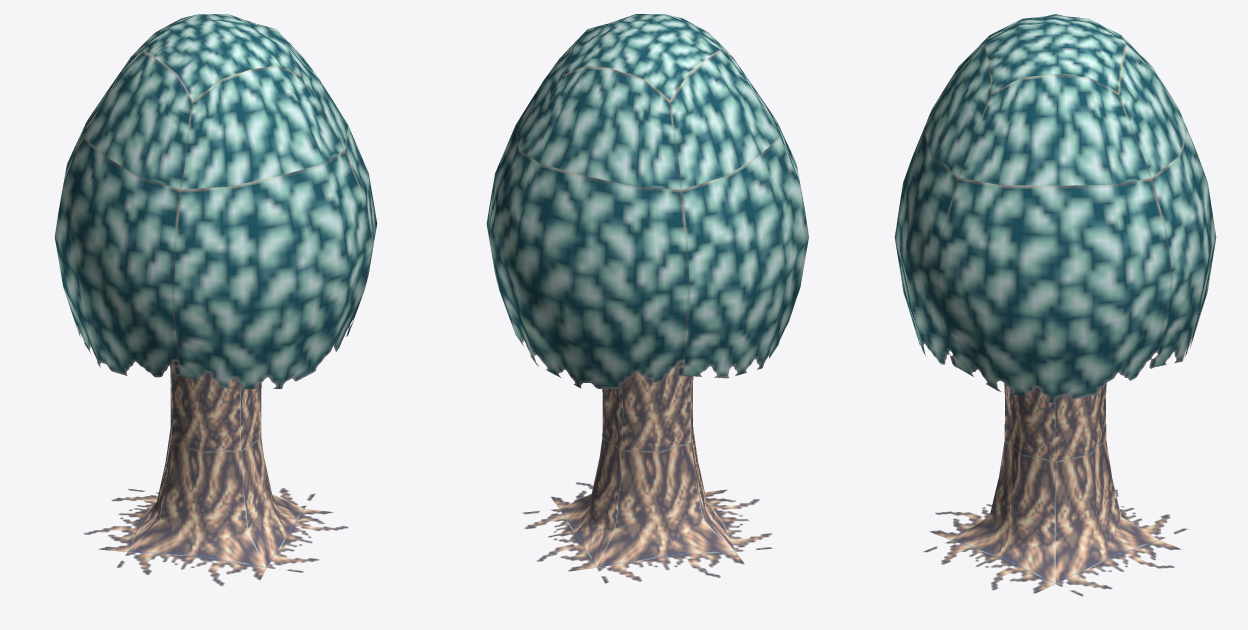
Rendered from grasslands_Tree_snowy_hiPoly.fbx.
3 views of the same model, side by side, from view 1: azimuth 30°, elevation 25°; view 2: azimuth 150°, elevation 25°; view 3: azimuth 270°, elevation 25° (orthographic).
Visible parts, largest first — view 1: grasslands_Tree_snowy_hiPoly; view 2: grasslands_Tree_snowy_hiPoly; view 3: grasslands_Tree_snowy_hiPoly.
Boxes of the visible parts, left/top/right/bottom form: grasslands_Tree_snowy_hiPoly: left=45, top=14, right=386, bottom=602; grasslands_Tree_snowy_hiPoly: left=449, top=14, right=846, bottom=614; grasslands_Tree_snowy_hiPoly: left=877, top=14, right=1233, bottom=615.
Size of the model in its own units: 3.39 by 5.45 by 3.39.
